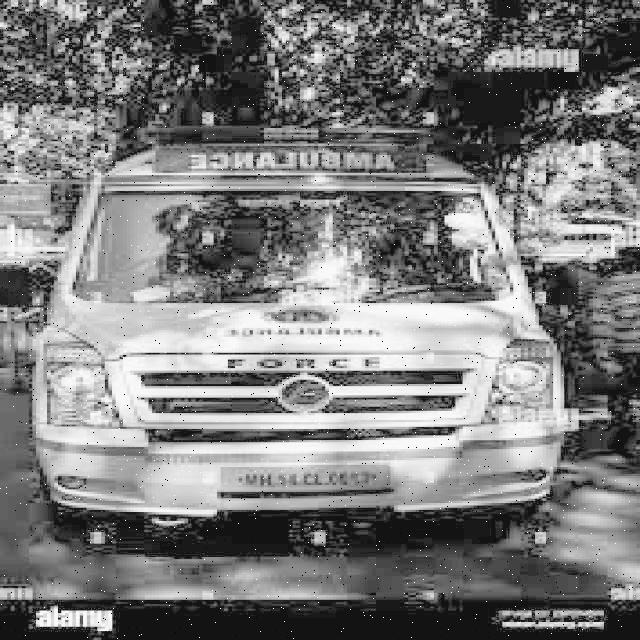LCV: (0, 120, 581, 539)
